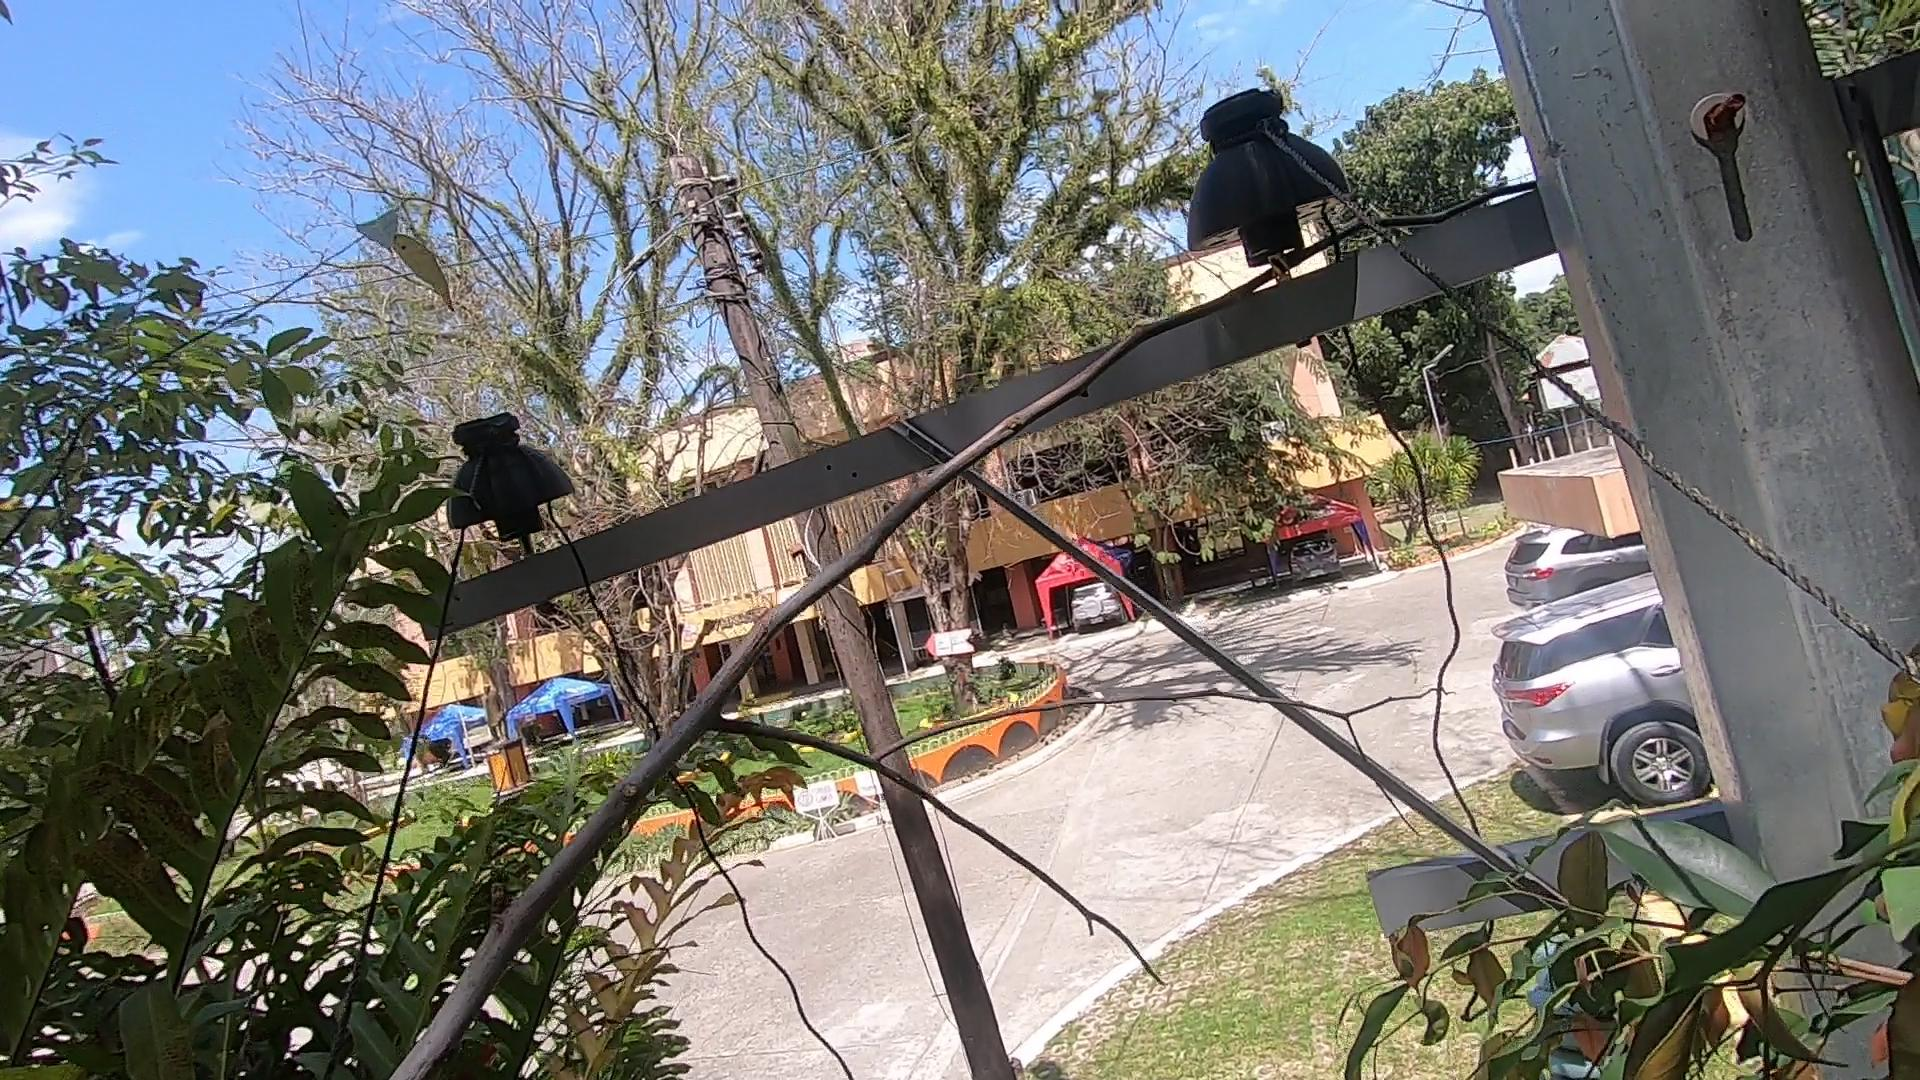branch with leaves: (1262, 803, 1859, 1080)
tree branch: (247, 166, 1654, 1080)
